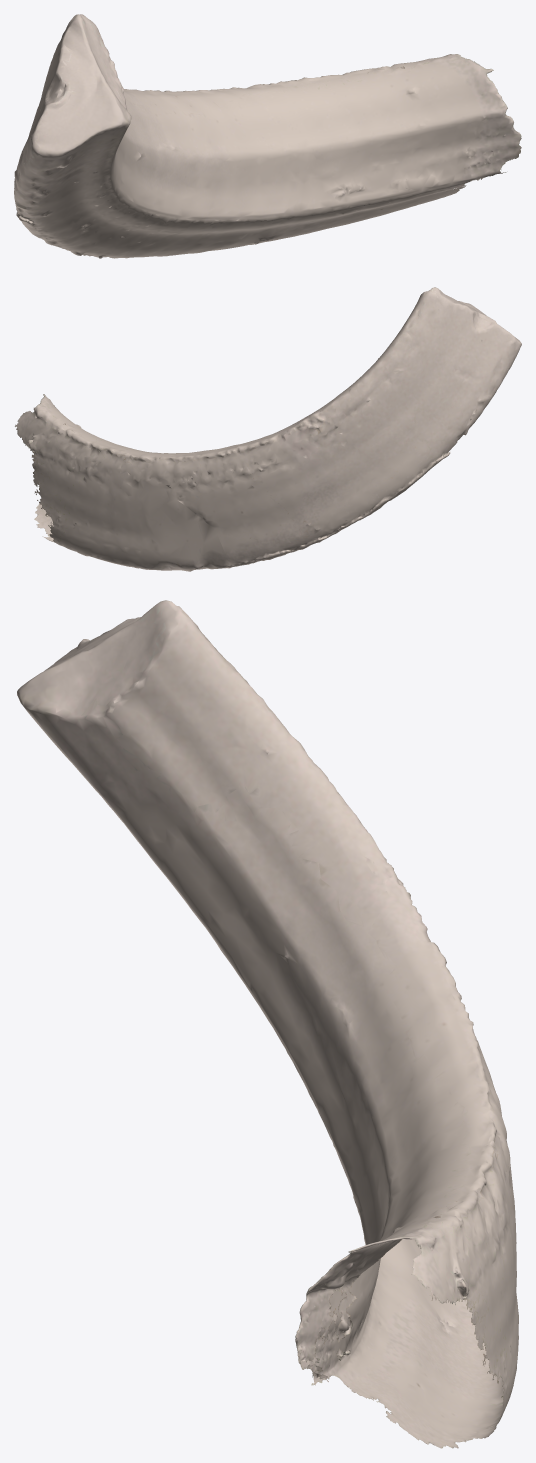
3 renders of one model, top to bottom at view 1: azimuth 30°, elevation 25°; view 2: azimuth 150°, elevation 25°; view 3: azimuth 270°, elevation 25°, orthographic. The views are drawn at different scales.
Visible parts, largest first — view 1: C_li_unten_Schwein.001; view 2: C_li_unten_Schwein.001; view 3: C_li_unten_Schwein.001.
Part boxes in pixels (x1,y1,x2,y2): C_li_unten_Schwein.001: [14, 14, 521, 258]; C_li_unten_Schwein.001: [15, 287, 521, 571]; C_li_unten_Schwein.001: [17, 600, 518, 1448].
Size of the model in its own units: 8655 by 5473 by 4550.
1 material, 1 textured.
